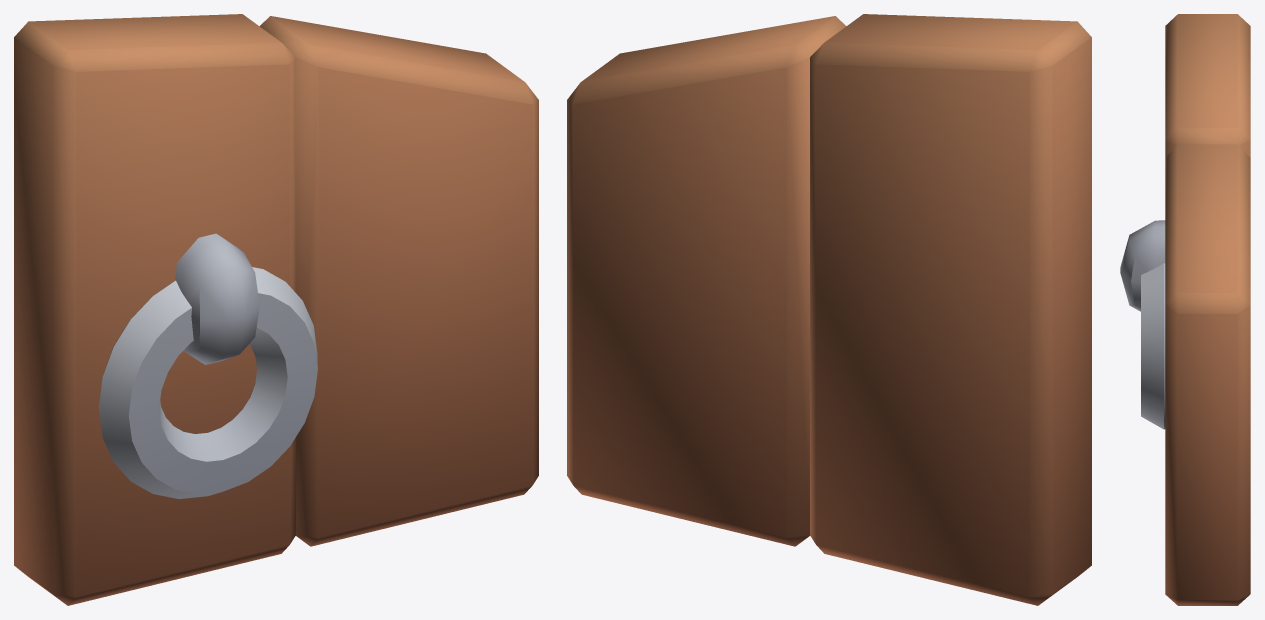
File: Gate Double Right.glb
3 renders of one model, left to right at view 1: azimuth 30°, elevation 25°; view 2: azimuth 150°, elevation 25°; view 3: azimuth 270°, elevation 25°, orthographic. The views are drawn at different scales.
Visible parts, largest first — view 1: gate_double_right; view 2: gate_double_right; view 3: gate_double_right.
Boxes of the visible parts, x1=… form: gate_double_right: x1=14, y1=14, x2=538, y2=605; gate_double_right: x1=567, y1=14, x2=1091, y2=605; gate_double_right: x1=1120, y1=14, x2=1250, y2=605.
Bounding box in the file's own units: 1 × 1.09 × 0.3051.
Materials: 1 (1 with a texture image).
